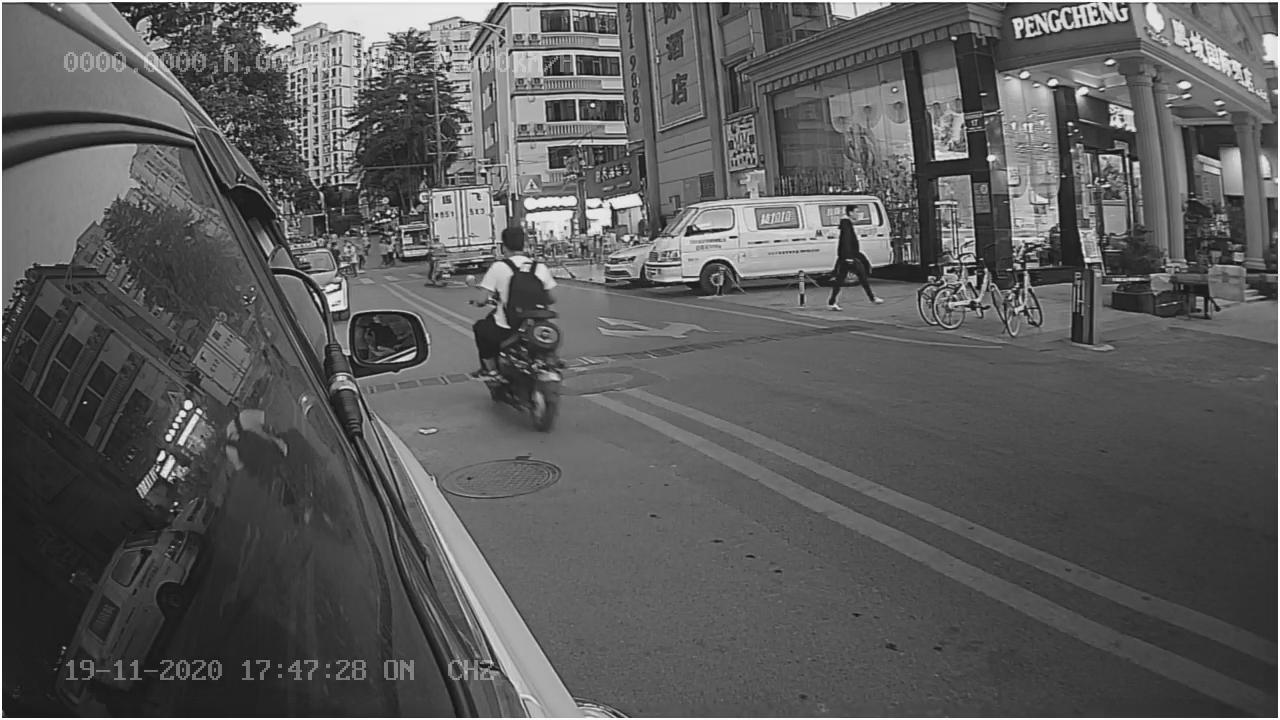person: (481, 228, 557, 333)
